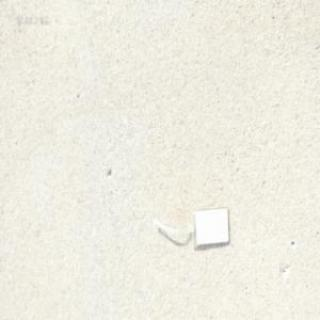LuggageTagtrack_idkeyframe: (152, 204, 230, 249)
